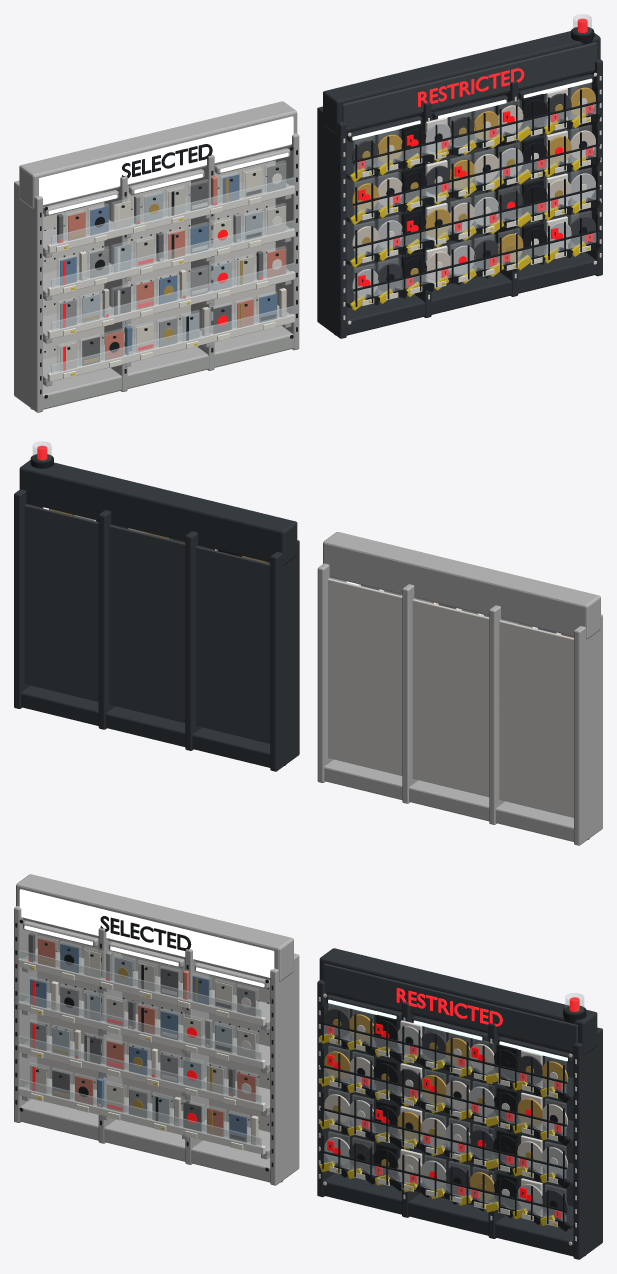
Rendered from media-store-shelves.glb.
3 views of the same model, one above another, from view 1: azimuth 30°, elevation 25°; view 2: azimuth 150°, elevation 25°; view 3: azimuth 330°, elevation 25° (orthographic).
Visible parts, largest first — view 1: selected_back_panel, selected_header, restricted_header, restricted_post_1, selected_base, selected_header_frame, selected_post_1, restricted_base, restricted_header_frame, restricted_back_panel, selected_shelf, selected_acrylic_lip_1 (+27 smaller); view 2: selected_back_panel, restricted_back_panel, selected_header_frame, restricted_header_frame, restricted_post_1, selected_post_1, selected_base, restricted_base, restricted_post_3, restricted_post_2, selected_post_4, restricted_post_4 (+2 smaller); view 3: selected_back_panel, selected_header, restricted_header, selected_post_4, restricted_post_4, selected_base, selected_header_frame, restricted_base, restricted_header_frame, restricted_back_panel, selected_shelf, selected_post_1 (+28 smaller).
Boxes of the visible parts, x1=… form: selected_back_panel: x1=43, y1=150, x2=275, y2=359; selected_header: x1=39, y1=116, x2=293, y2=204; restricted_header: x1=342, y1=42, x2=596, y2=130; restricted_post_1: x1=317, y1=106, x2=346, y2=338; selected_base: x1=43, y1=325, x2=293, y2=409; selected_header_frame: x1=19, y1=101, x2=297, y2=208; selected_post_1: x1=14, y1=180, x2=42, y2=412; restricted_base: x1=346, y1=252, x2=596, y2=335; restricted_header_frame: x1=323, y1=31, x2=600, y2=134; restricted_back_panel: x1=346, y1=76, x2=578, y2=285; selected_shelf: x1=43, y1=177, x2=289, y2=382; selected_acrylic_lip_1: x1=51, y1=306, x2=294, y2=374; selected_back_panel: x1=328, y1=578, x2=573, y2=817; restricted_back_panel: x1=24, y1=504, x2=270, y2=743; selected_header_frame: x1=323, y1=532, x2=600, y2=639; restricted_header_frame: x1=19, y1=460, x2=297, y2=565; restricted_post_1: x1=270, y1=540, x2=299, y2=771; selected_post_1: x1=574, y1=614, x2=602, y2=845; selected_base: x1=324, y1=759, x2=573, y2=841; restricted_base: x1=21, y1=685, x2=270, y2=767; restricted_post_3: x1=98, y1=510, x2=128, y2=729; restricted_post_2: x1=185, y1=531, x2=214, y2=750; selected_post_4: x1=317, y1=563, x2=346, y2=782; restricted_post_4: x1=14, y1=489, x2=43, y2=708; selected_back_panel: x1=37, y1=923, x2=270, y2=1132; selected_header: x1=19, y1=889, x2=274, y2=977; restricted_header: x1=323, y1=963, x2=577, y2=1051; selected_post_4: x1=270, y1=953, x2=299, y2=1185; restricted_post_4: x1=573, y1=1027, x2=602, y2=1259; selected_base: x1=19, y1=1099, x2=270, y2=1182; selected_header_frame: x1=16, y1=874, x2=293, y2=981; restricted_base: x1=323, y1=1173, x2=573, y2=1256; restricted_header_frame: x1=319, y1=948, x2=597, y2=1055; restricted_back_panel: x1=341, y1=997, x2=573, y2=1206; selected_shelf: x1=23, y1=948, x2=270, y2=1155; selected_post_1: x1=14, y1=906, x2=37, y2=1122.
Bounding box in the file's own units: 11.8 × 5.14 × 1.04.
